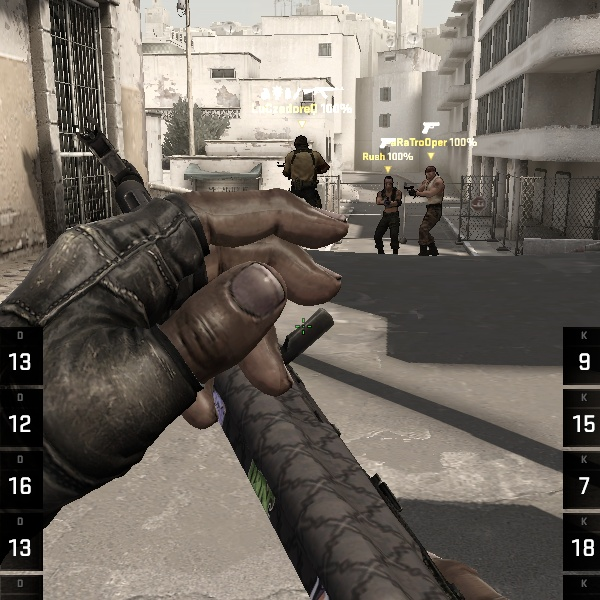t_body: (279, 134, 329, 203), (413, 164, 450, 255), (372, 172, 404, 255)
t_head: (293, 134, 310, 151), (424, 165, 438, 181), (383, 175, 395, 191)
